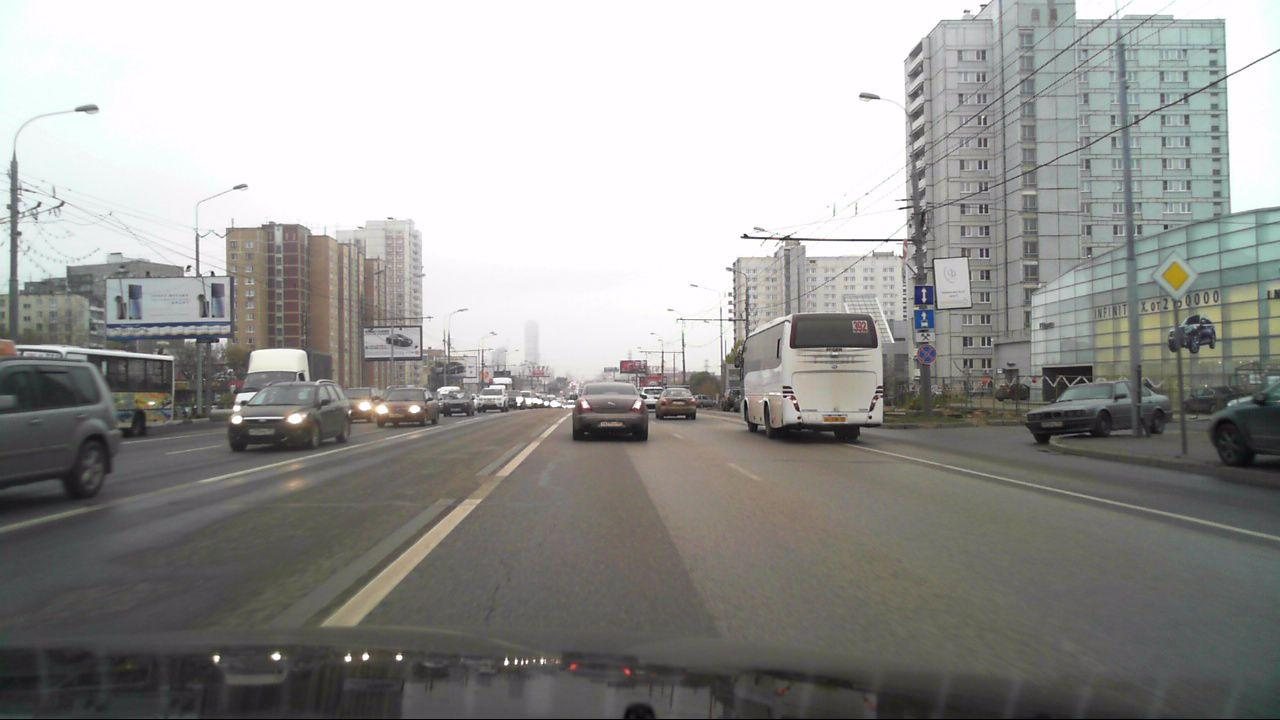2_1: (1152, 249, 1199, 297)
3_27: (917, 343, 937, 364)
5_14_1: (913, 310, 934, 330)
5_8: (915, 286, 933, 305)
8_5_2: (914, 332, 937, 343)
